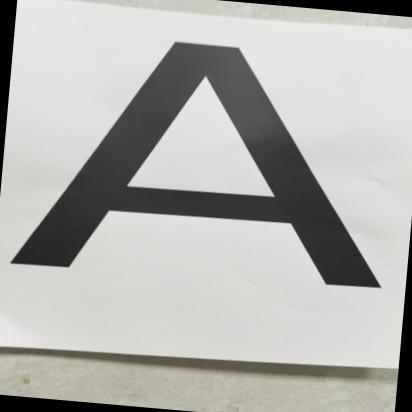seat: (28, 35, 412, 344)
